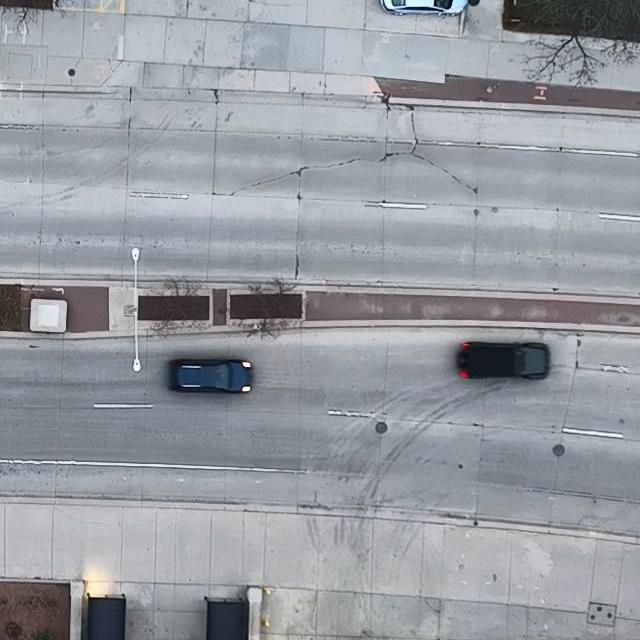car: (456, 342, 550, 380), (169, 359, 253, 394), (378, 0, 468, 17)
